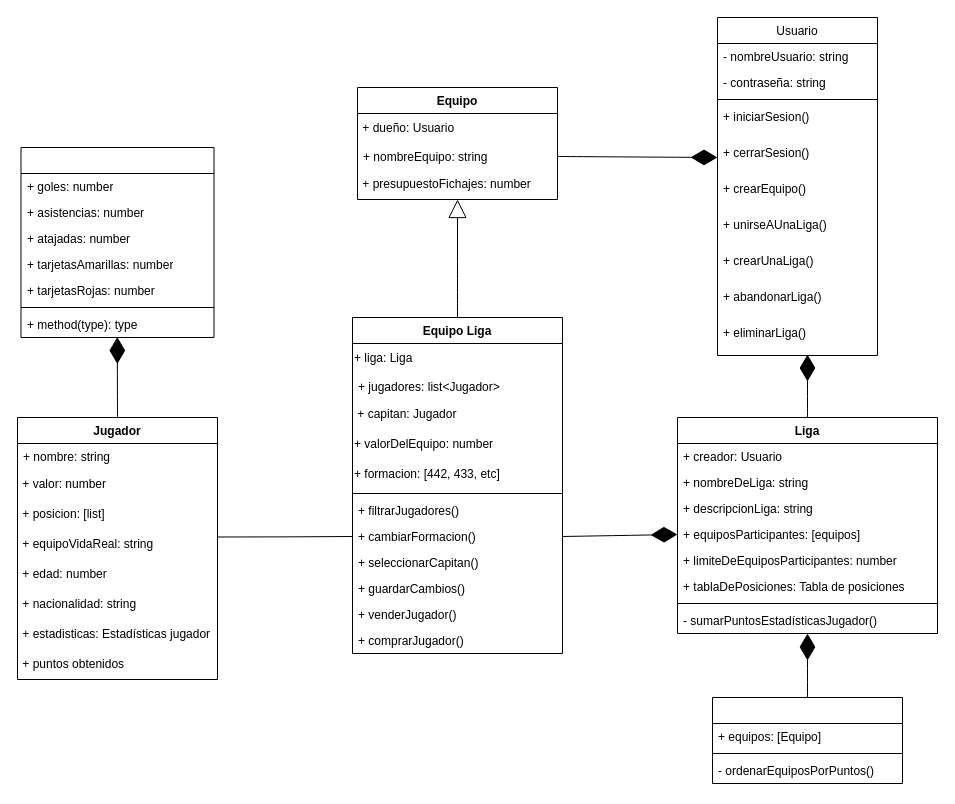
This 955x804 diagram has some shape labels left out. The shapes that lost their labels are listed below. From the top down, each one's box as (x1, y1, x2, y2) in pixels, then its label:
(20, 146, 214, 338): Estadísticas jugador
(712, 696, 902, 784): Tabla de posiciones
